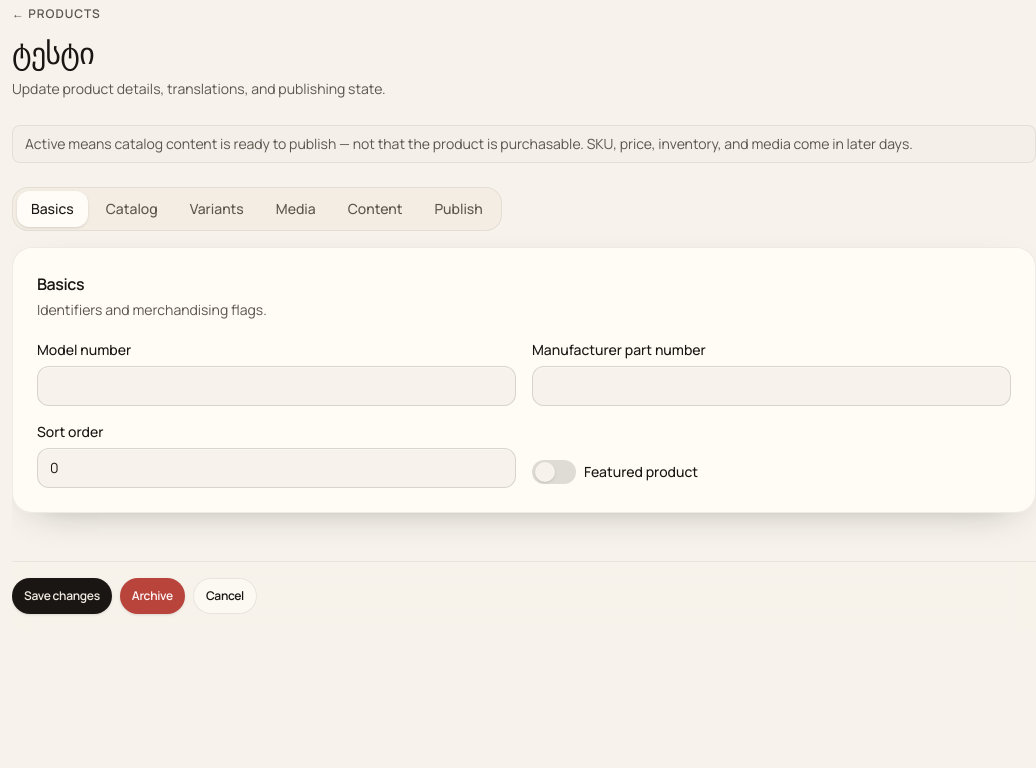
Test: ProductFormPage › loads the variants workspace on edit
Expected: the field labelled "Model number" is shown, [37,366,516,406]
Click the tab "Variants".
click(217, 209)  # box [176,191,258,227]
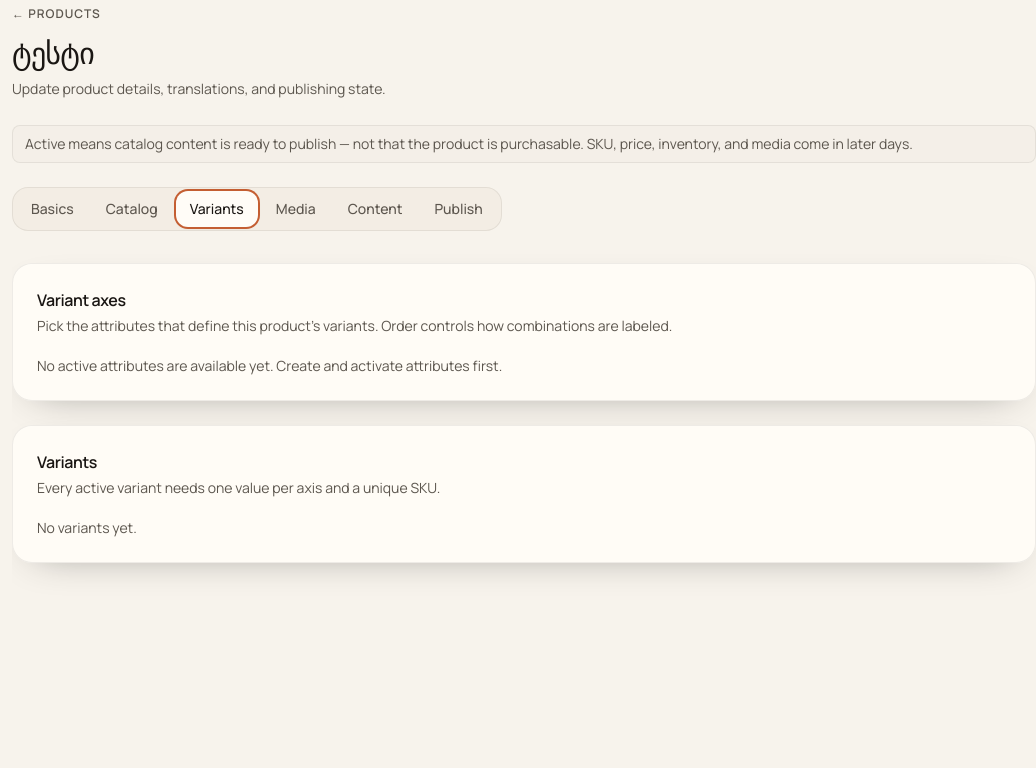
Now the text "No variants yet." is shown, box [37,518,137,537]
Now the text "No active attributes are available yet. Create and activate attributes first." is shown, box [37,356,502,375]
